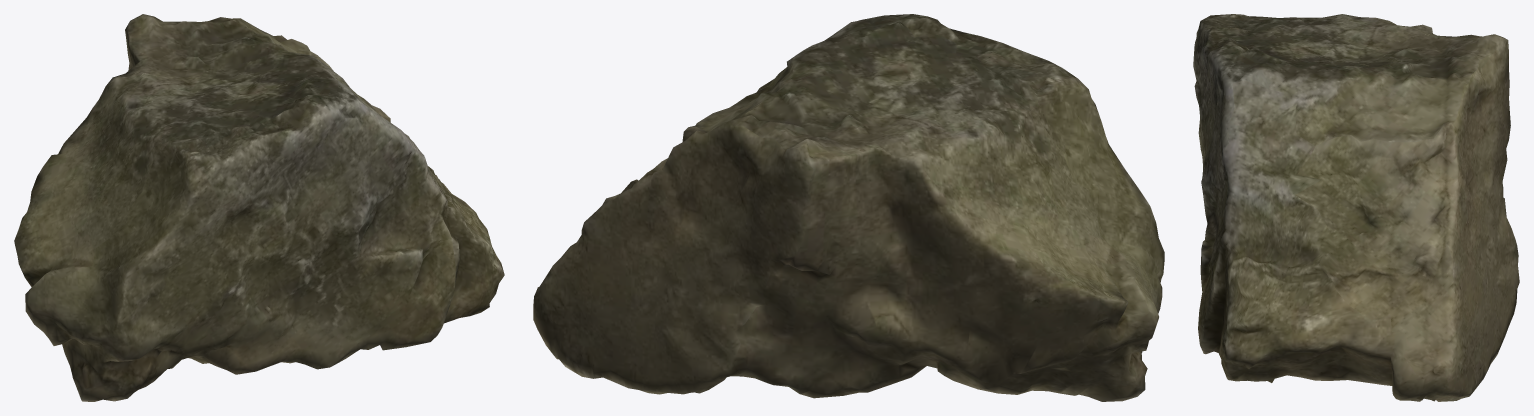
Rendered from moss-rock-03.glb.
3 views of the same model, side by side, from view 1: azimuth 30°, elevation 25°; view 2: azimuth 150°, elevation 25°; view 3: azimuth 270°, elevation 25° (orthographic). The views are drawn at different scales.
Visible parts, largest first — view 1: moss rock 14; view 2: moss rock 14; view 3: moss rock 14.
Part boxes in pixels (bbox=[...]): moss rock 14: bbox=[14, 14, 504, 401]; moss rock 14: bbox=[533, 14, 1164, 401]; moss rock 14: bbox=[1193, 14, 1519, 401].
Bounding box in the file's own units: 2 × 1.09 × 1.2.
Materials: 1 (1 with a texture image).
